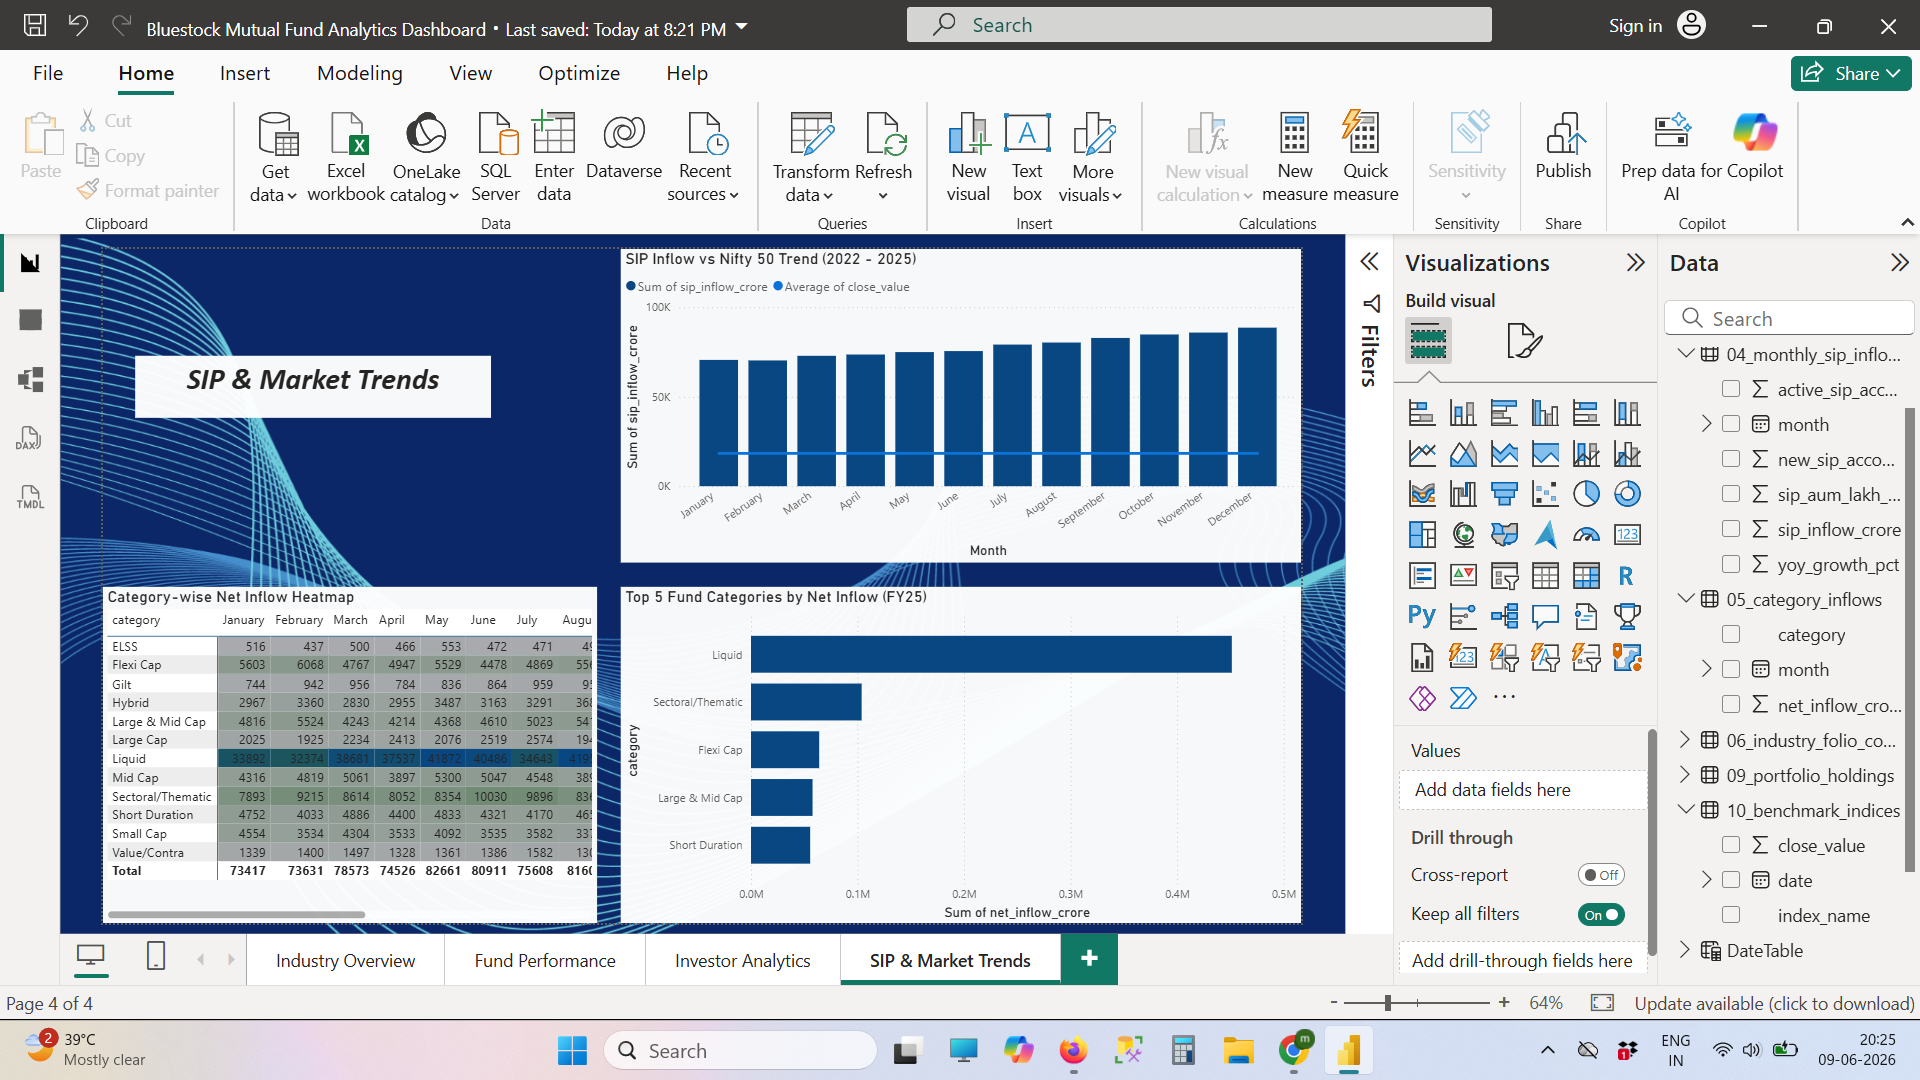

Layout of this report page (visuals, bound fields, positions):
{"tool":"powerbi","page":{"name":"SIP & Market Trends","canvas":[1280,720],"ordinal":3},"visuals":[{"type":"lineClusteredColumnComboChart","title":"SIP Inflow vs Nifty 50 Trend (2022 - 2025)","fields":{"Category":["04_monthly_sip_inflows.month.Variation.Date Hierarchy.Month"],"Y":["Sum(04_monthly_sip_inflows.sip_inflow_crore)"],"Y2":["Avg(10_benchmark_indices.close_value)"]},"box":[552.9,0,727.6,335],"z":0},{"type":"pivotTable","title":"Category-wise Net Inflow Heatmap","fields":{"Columns":["05_category_inflows.month.Variation.Date Hierarchy.Month"],"Values":["Sum(05_category_inflows.net_inflow_crore)"],"Rows":["05_category_inflows.category"]},"box":[0,360.2,527.7,360.2],"z":1000},{"type":"clusteredBarChart","title":"Top 5 Fund Categories by Net Inflow (FY25)","fields":{"Category":["05_category_inflows.category"],"Y":["Sum(05_category_inflows.net_inflow_crore)"]},"box":[552.9,360.2,727.6,360.2],"z":2000},{"type":"textbox","box":[34.2,113.5,380,66.6],"z":3000}]}

Visuals, with their boxes on the page's 1280x720 design canvas (x1, y1, x2, y2). These are canvas units, not pixel positions in the 1920x1080 screenshot, which may show the page scaled, cropped or inside an application window:
"SIP Inflow vs Nifty 50 Trend (2022 - 2025)" lineClusteredColumnComboChart: 553/0/1280/335
"Category-wise Net Inflow Heatmap" pivotTable: 0/360/528/720
"Top 5 Fund Categories by Net Inflow (FY25)" clusteredBarChart: 553/360/1280/720
textbox: 34/114/414/180
